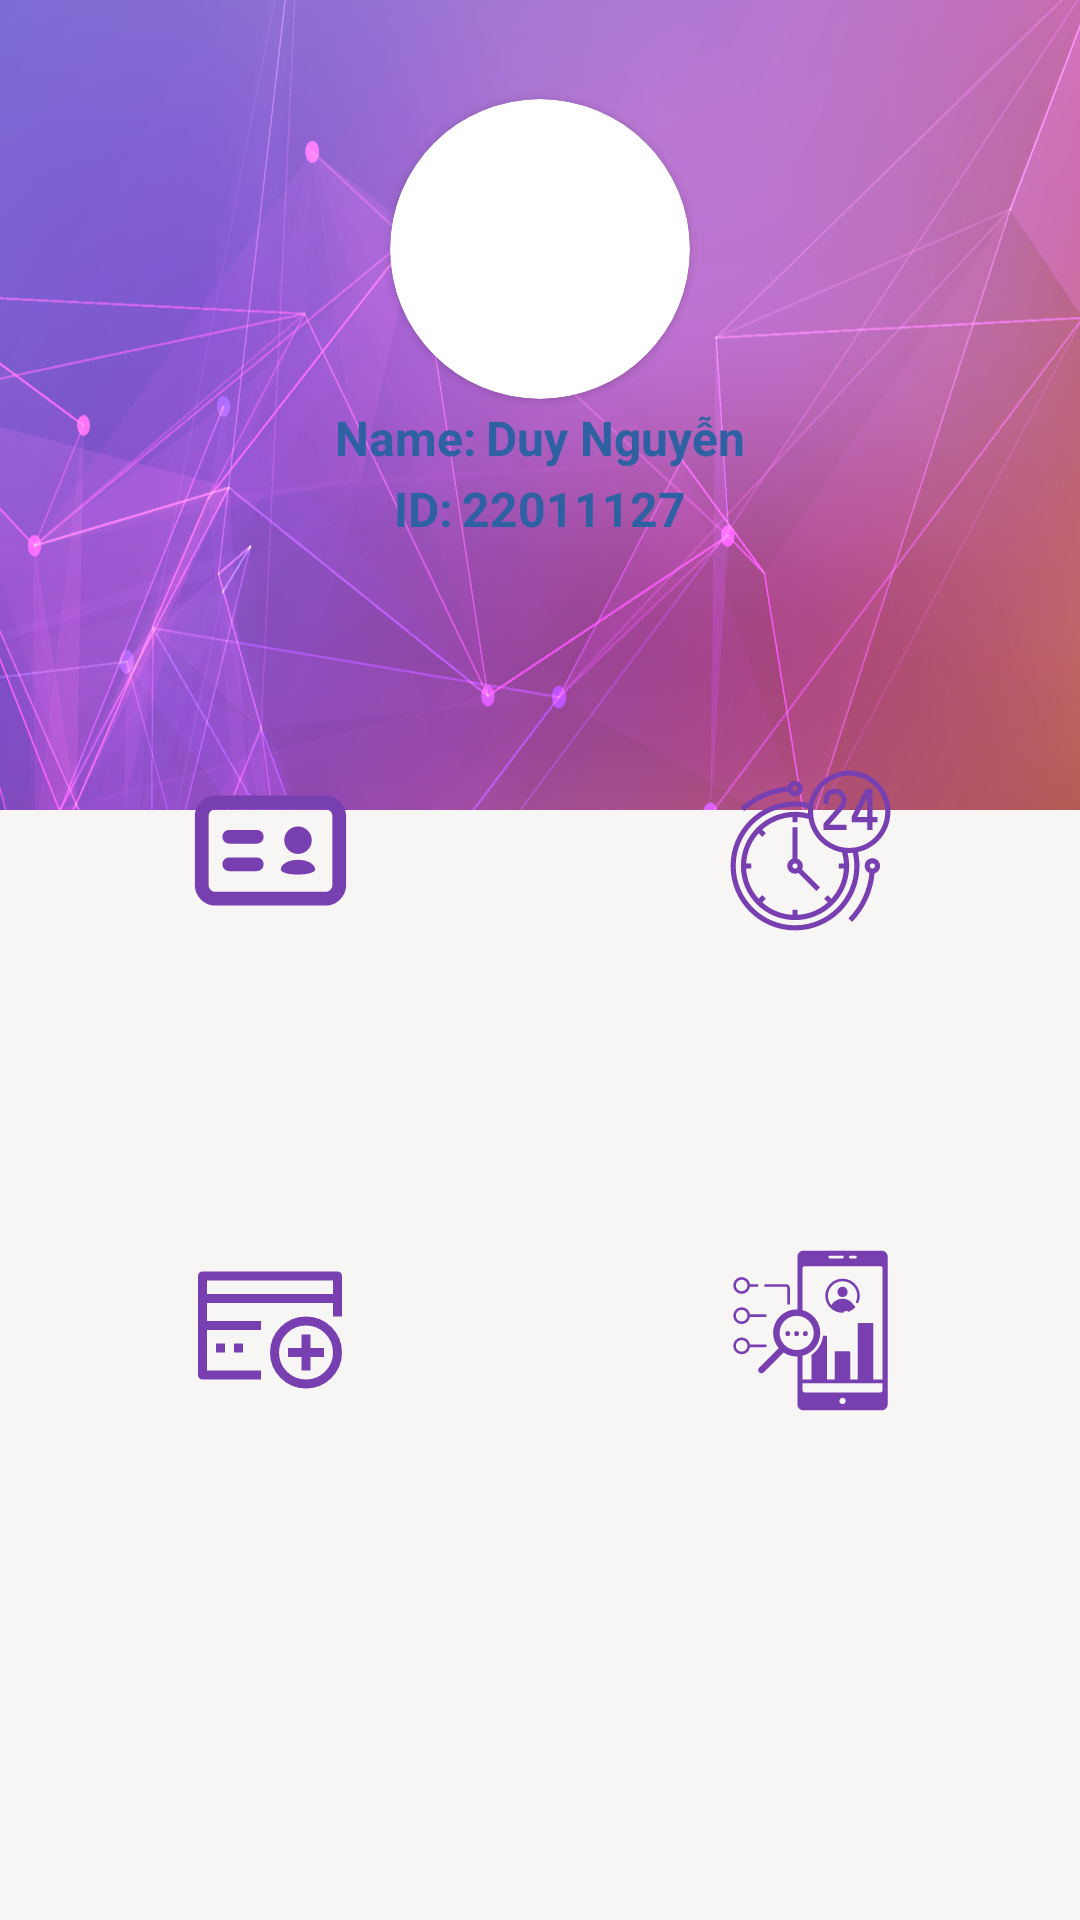

Icon click points for this 1080 × 1920 phone screenshot, format [x,y]:
addidcard: [270,1330]
thongke: [810,1330]
